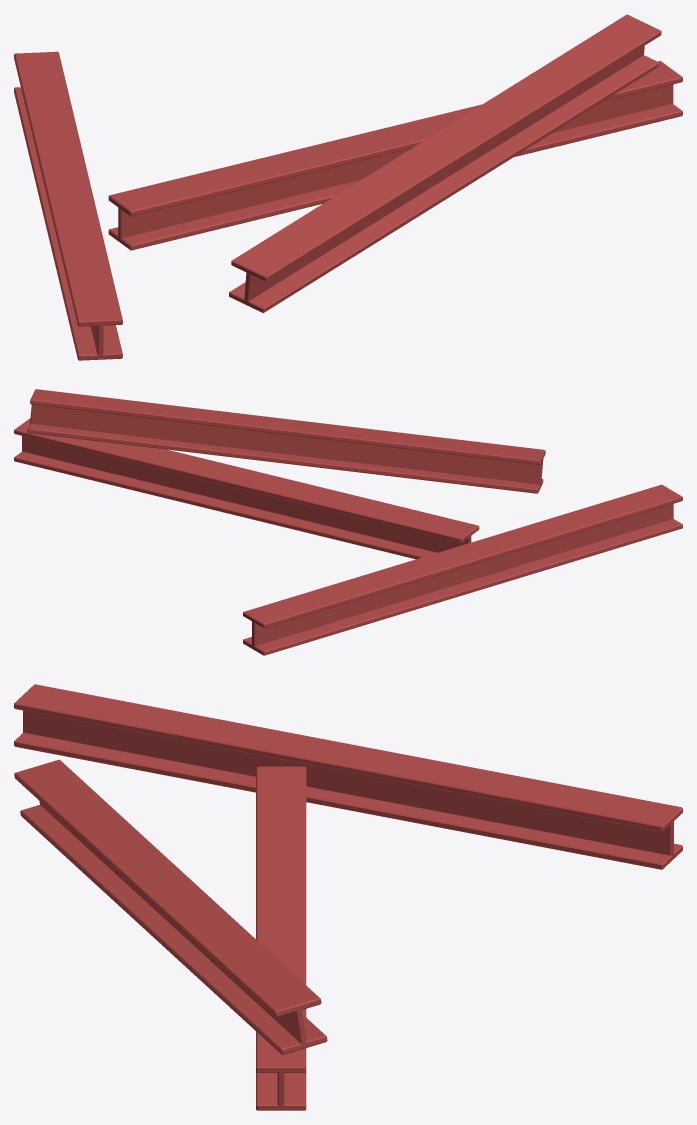
Rendered from Steel B.fbx.
The picture shows the model from 3 angles, top to bottom: view 1: azimuth 30°, elevation 25°; view 2: azimuth 150°, elevation 25°; view 3: azimuth 270°, elevation 25°; orthographic projection. The views are drawn at different scales.
Parts seen in each view (by area): view 1: Steel B; view 2: Steel B; view 3: Steel B.
Boxes of the visible parts, box(x1,y1,x2,y2) form: Steel B: box(14, 14, 682, 360); Steel B: box(14, 389, 682, 655); Steel B: box(14, 684, 682, 1110).
Size of the model in its own units: 522 by 62.21 by 385.
